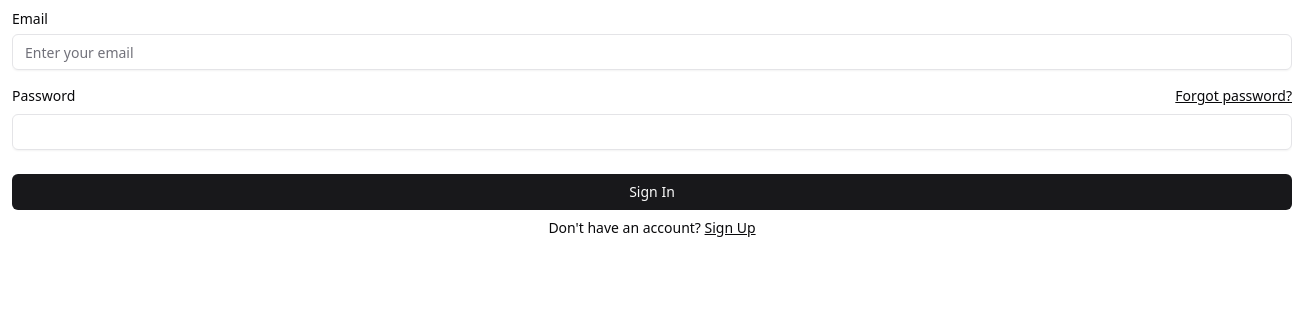
Test: SignInForm › shows validation errors on empty submit
Click the button "Sign In".
click(652, 192)  # box [12,174,1292,210]
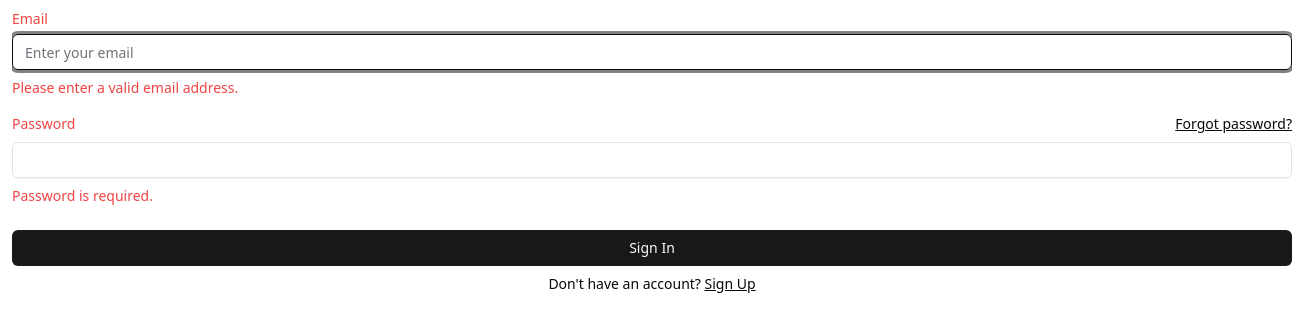
Check: the text "Please enter a valid email address." is shown, box [12,78,238,97]
